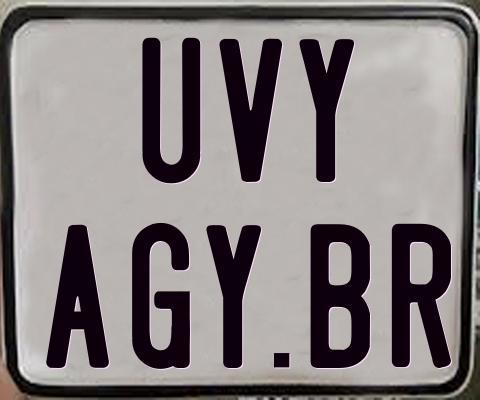A: (44, 223, 107, 368)
B: (310, 223, 376, 373)
G: (131, 222, 193, 371)
R: (392, 222, 455, 369)
U: (141, 36, 204, 183)
V: (216, 38, 279, 183)
Y: (296, 36, 354, 185), (206, 224, 264, 368)
